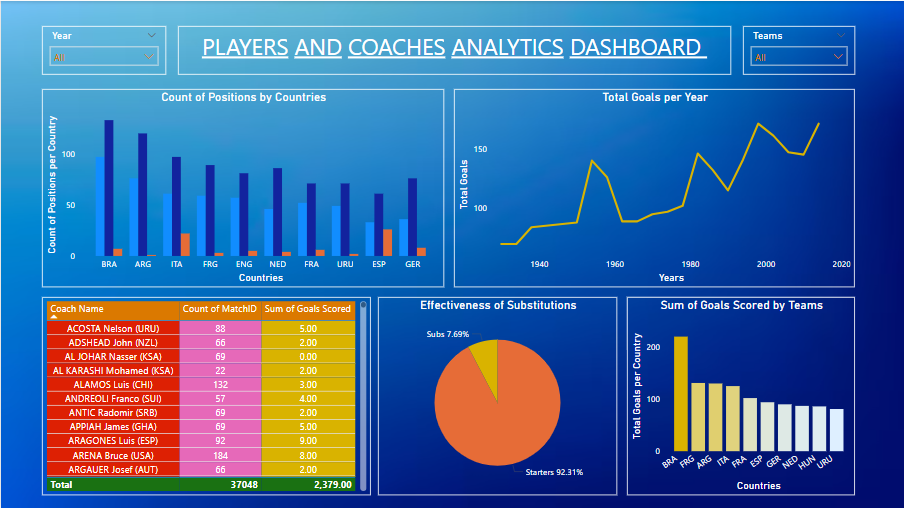

What the dashboard file says about the page in this screenshot:
{"tool":"powerbi","page":{"name":"PLAYERS AND COACHES ANALYTICS DASHBOARD","canvas":[1280,720],"ordinal":3},"visuals":[{"type":"columnChart","title":"Sum of Goals Scored by Teams","fields":{"Y":["WorldCupPlayers.Goals Scored"],"Category":["WorldCupPlayers.Team Initials"]},"box":[887.2,419.5,323.1,280.6],"z":0},{"type":"tableEx","fields":{"Values":["WorldCupPlayers.Coach Name","WorldCupPlayers.MatchID","WorldCupPlayers.Goals Scored"]},"box":[58.1,419.5,466.3,280.6],"z":1000},{"type":"clusteredColumnChart","title":"Count of Positions by  Countries","fields":{"Category":["WorldCupPlayers.Team Initials"],"Y":["WorldCupPlayers.Position"],"Series":["WorldCupPlayers.Position"]},"box":[58.1,124.7,569.8,280.6],"z":2000},{"type":"lineChart","title":"Total Goals per Year","fields":{"Category":["WorldCups.Year"],"Y":["WorldCupPlayers.Goals Scored"]},"box":[642,124.7,568.3,280.6],"z":3000},{"type":"pieChart","title":"Effectiveness of Substitutions","fields":{"Category":["WorldCupPlayers.Line-up"],"Y":["WorldCupPlayers.Goals Scored"]},"box":[534.3,419.5,338.7,280.6],"z":4000},{"type":"slicer","fields":{"Values":["WorldCups.Year"]},"box":[58.1,35.4,175.7,69.4],"z":5000},{"type":"slicer","fields":{"Values":["WorldCupPlayers.Team Initials"]},"box":[1051.7,35.4,158.7,69.4],"z":6000},{"type":"textbox","box":[250.9,35.4,783.8,69.4],"z":7000}]}

Visuals, with their boxes in screenshot pixels (x1, y1, x2, y2), scaled from the page's 1280x720 canvas onto the 904x508 screenshot:
"Sum of Goals Scored by Teams" columnChart: locate(627, 296, 855, 494)
tableEx - WorldCupPlayers.Coach Name x WorldCupPlayers.MatchID: locate(41, 296, 370, 494)
"Count of Positions by  Countries" clusteredColumnChart: locate(41, 88, 443, 286)
"Total Goals per Year" lineChart: locate(453, 88, 855, 286)
"Effectiveness of Substitutions" pieChart: locate(377, 296, 617, 494)
slicer - WorldCups.Year: locate(41, 25, 165, 74)
slicer - WorldCupPlayers.Team Initials: locate(743, 25, 855, 74)
textbox: locate(177, 25, 731, 74)
